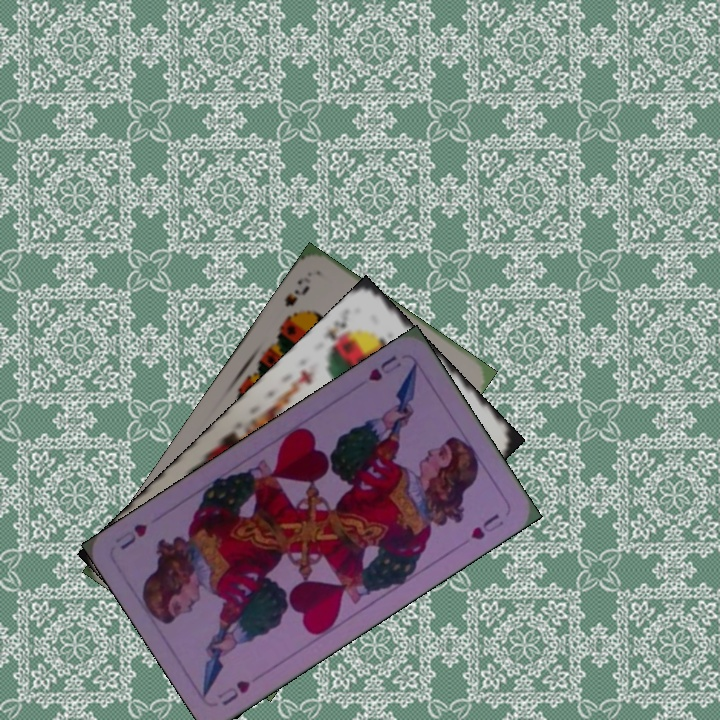HU: (364, 351, 404, 384), (213, 676, 253, 708)
S9: (279, 281, 313, 326)
SK: (321, 309, 352, 344)
